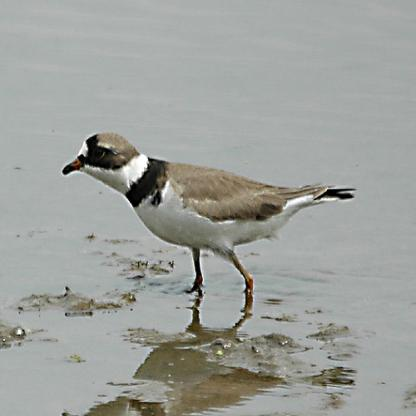bird: (61, 131, 356, 293)
